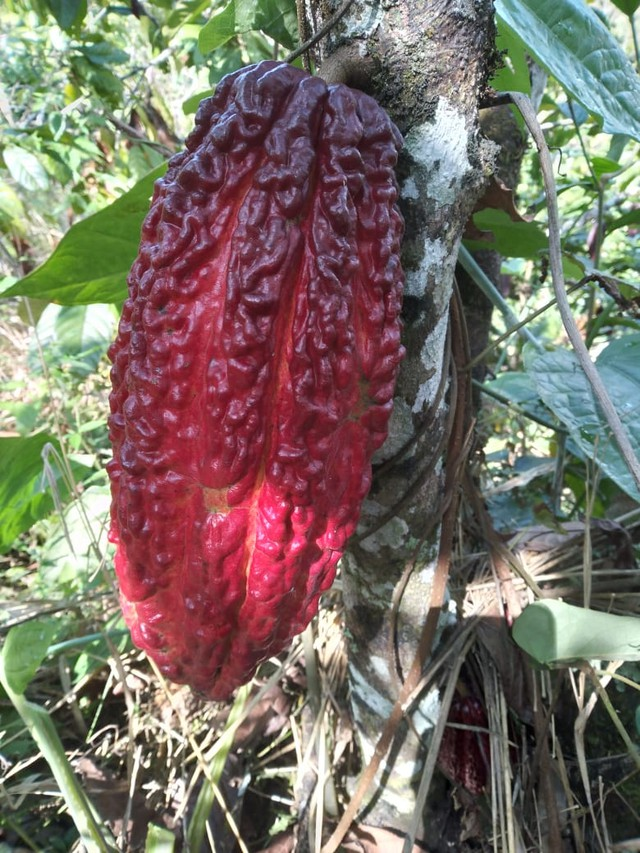Health: (101, 48, 410, 709)
